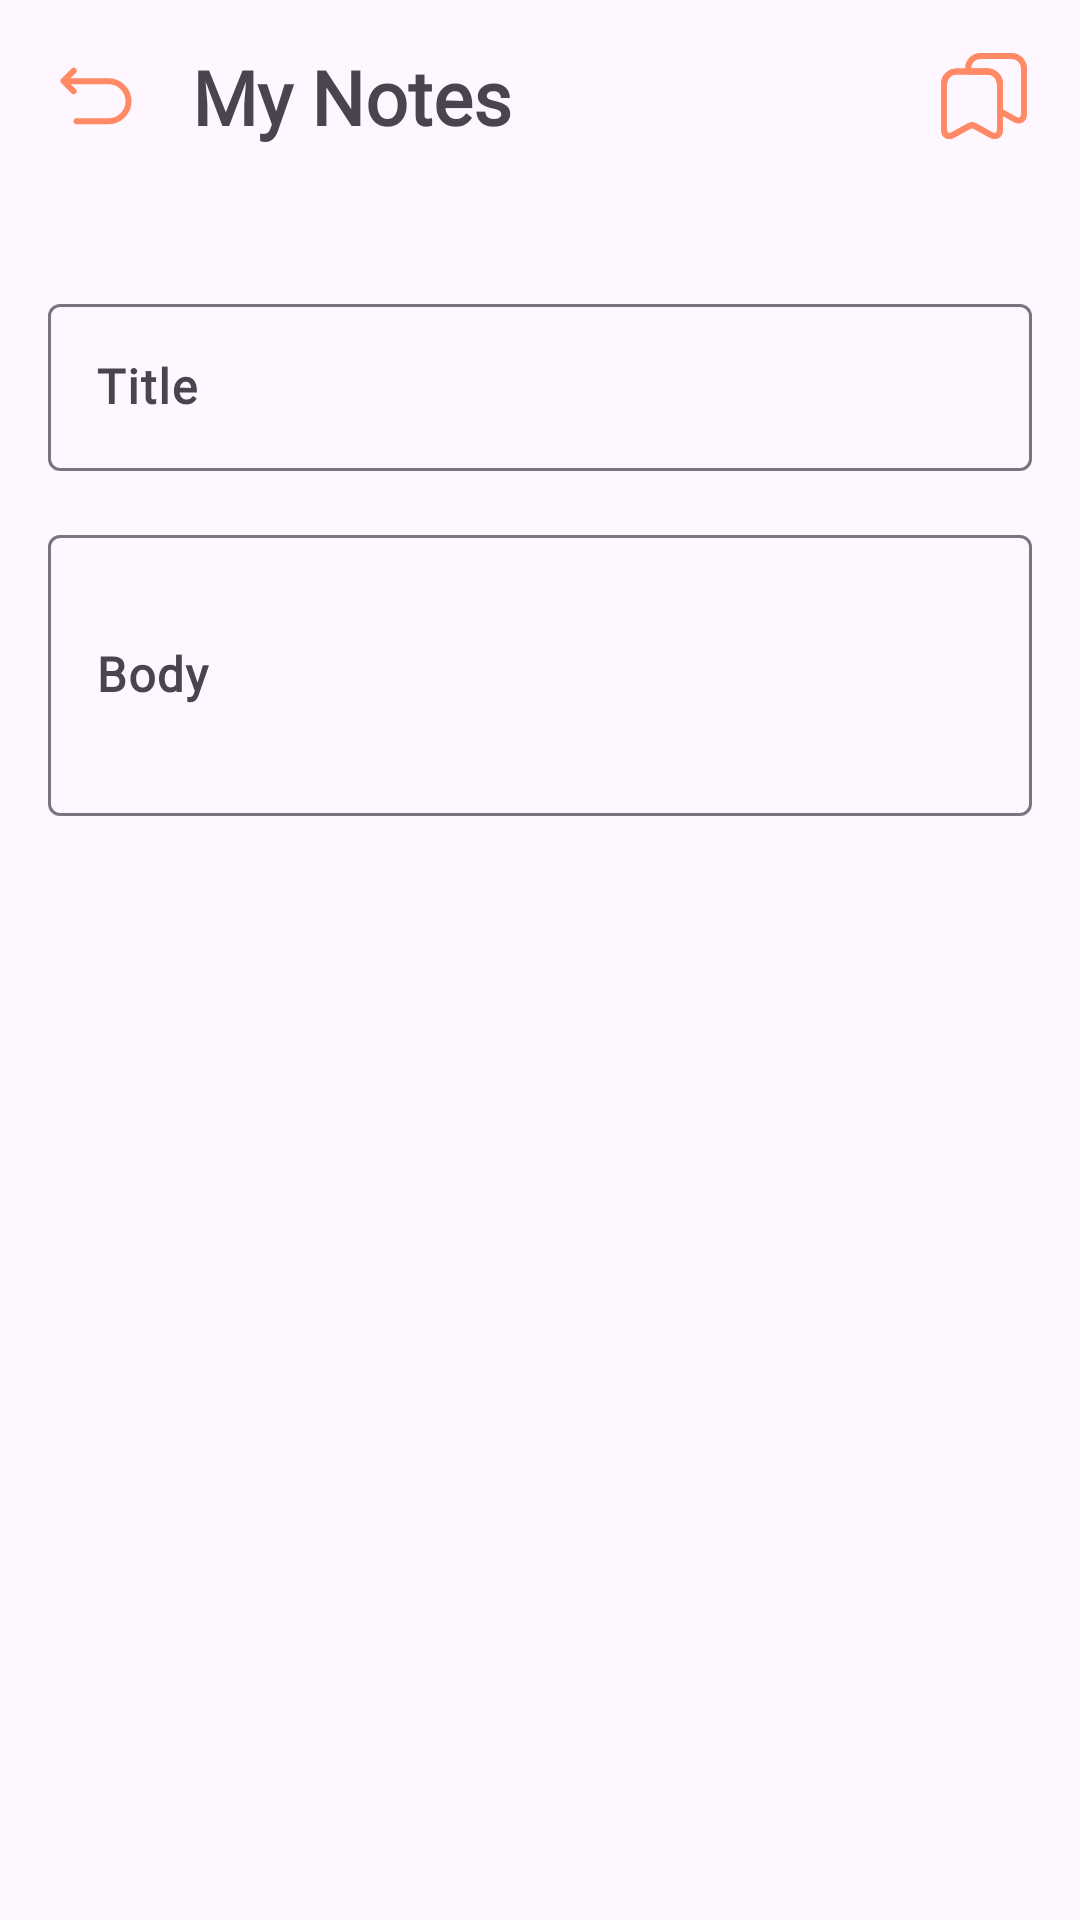

Icons on this 1080×1920 Android screen, each with its box as bbox=[x1, y1, x2, y2]:
back linear: bbox=[60, 67, 132, 125]
save linear: bbox=[941, 53, 1027, 139]
